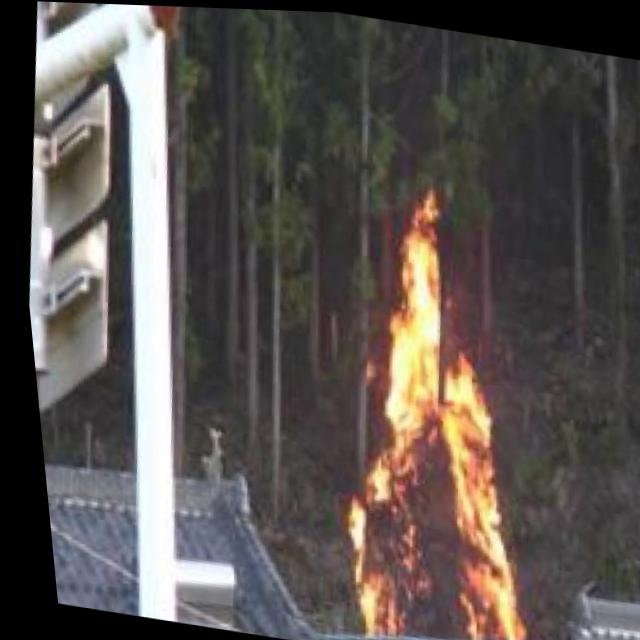Fire: (304, 201, 563, 640)
